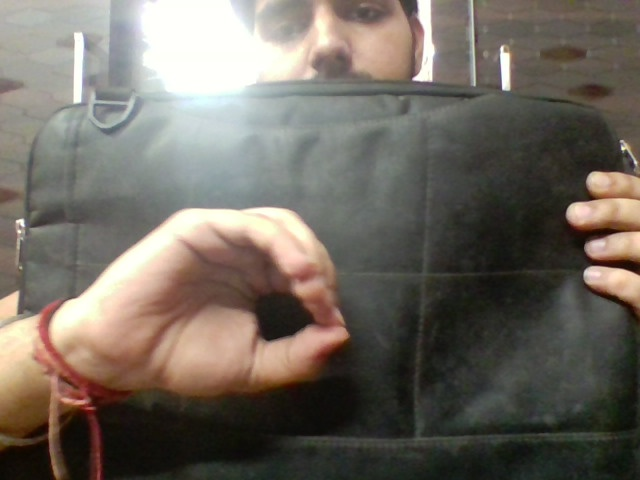o: (99, 199, 373, 403)
